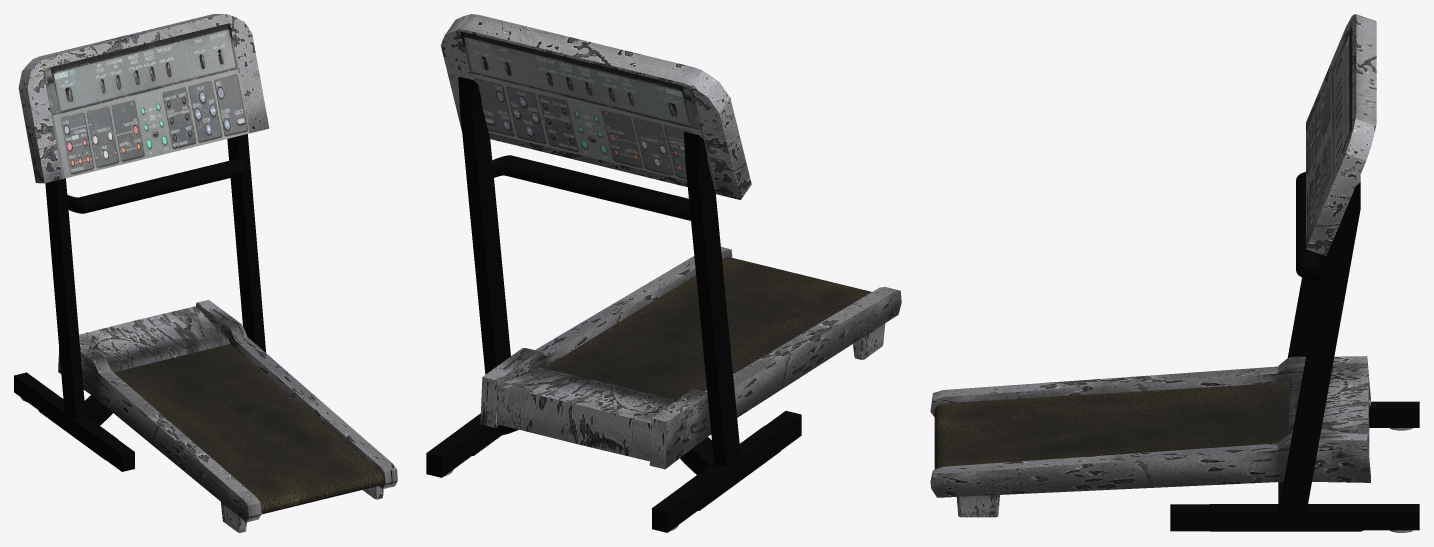
File: tredmill.fbx
The picture shows the model from 3 angles, left to right: view 1: azimuth 30°, elevation 25°; view 2: azimuth 150°, elevation 25°; view 3: azimuth 270°, elevation 25°; orthographic projection. The views are drawn at different scales.
Visible parts, largest first — view 1: polySurface10; view 2: polySurface10; view 3: polySurface10.
Part boxes in pixels (bbox=[...]): polySurface10: bbox=[14, 14, 397, 532]; polySurface10: bbox=[426, 14, 901, 532]; polySurface10: bbox=[930, 14, 1419, 532].
Size of the model in its own units: 9.47 by 14.34 by 15.48.
